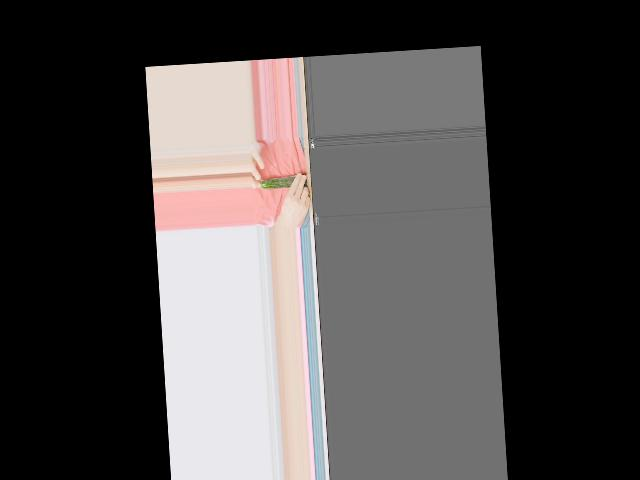cucumber: (260, 176, 296, 190)
